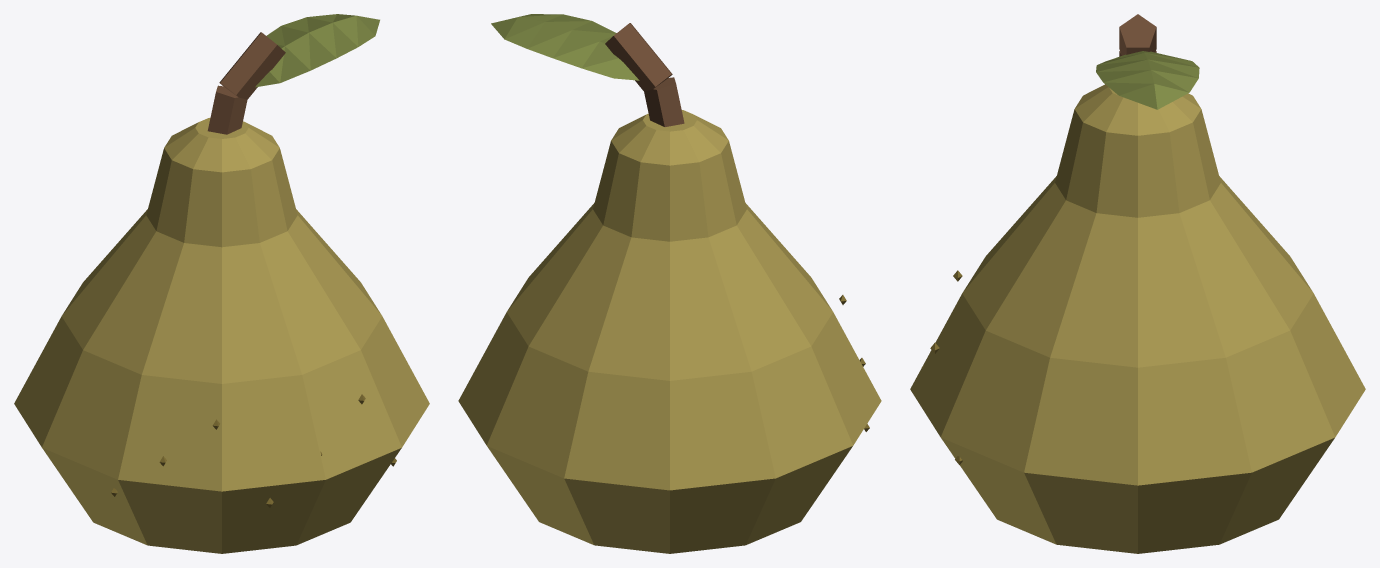
File: wild_pear.glb
3 renders of one model, left to right at view 1: azimuth 30°, elevation 25°; view 2: azimuth 150°, elevation 25°; view 3: azimuth 270°, elevation 25°, orthographic. The views are drawn at different scales.
Parts seen in each view (by area): view 1: item; view 2: item; view 3: item.
Part boxes in pixels (x1,y1,x2,y2): item: (14,14,429,553); item: (458,14,881,553); item: (910,14,1365,553).
Bounding box in the file's own units: 0.28 × 0.3588 × 0.28.
